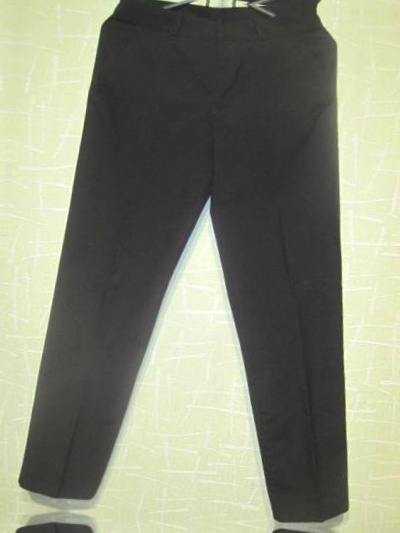Pants: (23, 0, 395, 529), (0, 511, 360, 533), (59, 0, 400, 5)
